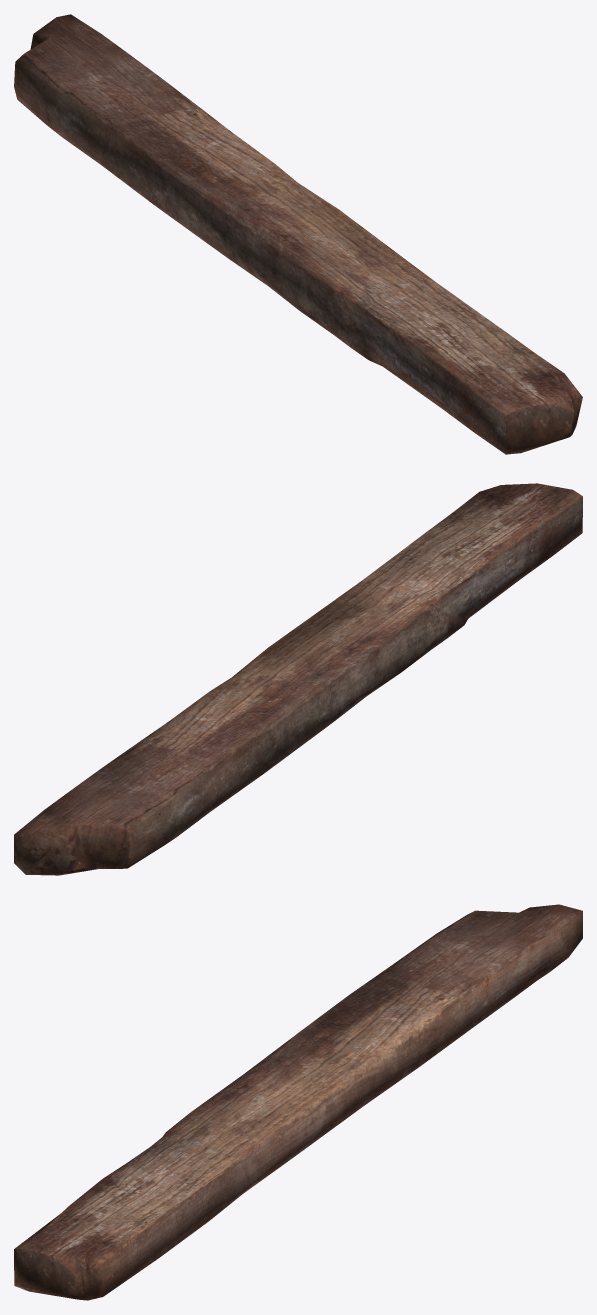
The model's file is Wooden_Plank_000.fbx.
3 renders of one model, top to bottom at view 1: azimuth 30°, elevation 25°; view 2: azimuth 150°, elevation 25°; view 3: azimuth 330°, elevation 25°, orthographic. The views are drawn at different scales.
Parts seen in each view (by area): view 1: ricaS_LOD0_TIER2_000; view 2: ricaS_LOD0_TIER2_000; view 3: ricaS_LOD0_TIER2_000.
Boxes of the visible parts, x1=… form: ricaS_LOD0_TIER2_000: x1=14, y1=14, x2=582, y2=454; ricaS_LOD0_TIER2_000: x1=14, y1=483, x2=582, y2=875; ricaS_LOD0_TIER2_000: x1=14, y1=904, x2=582, y2=1300.
Size of the model in its own units: 0.0659 by 0.0336 by 0.6448.
